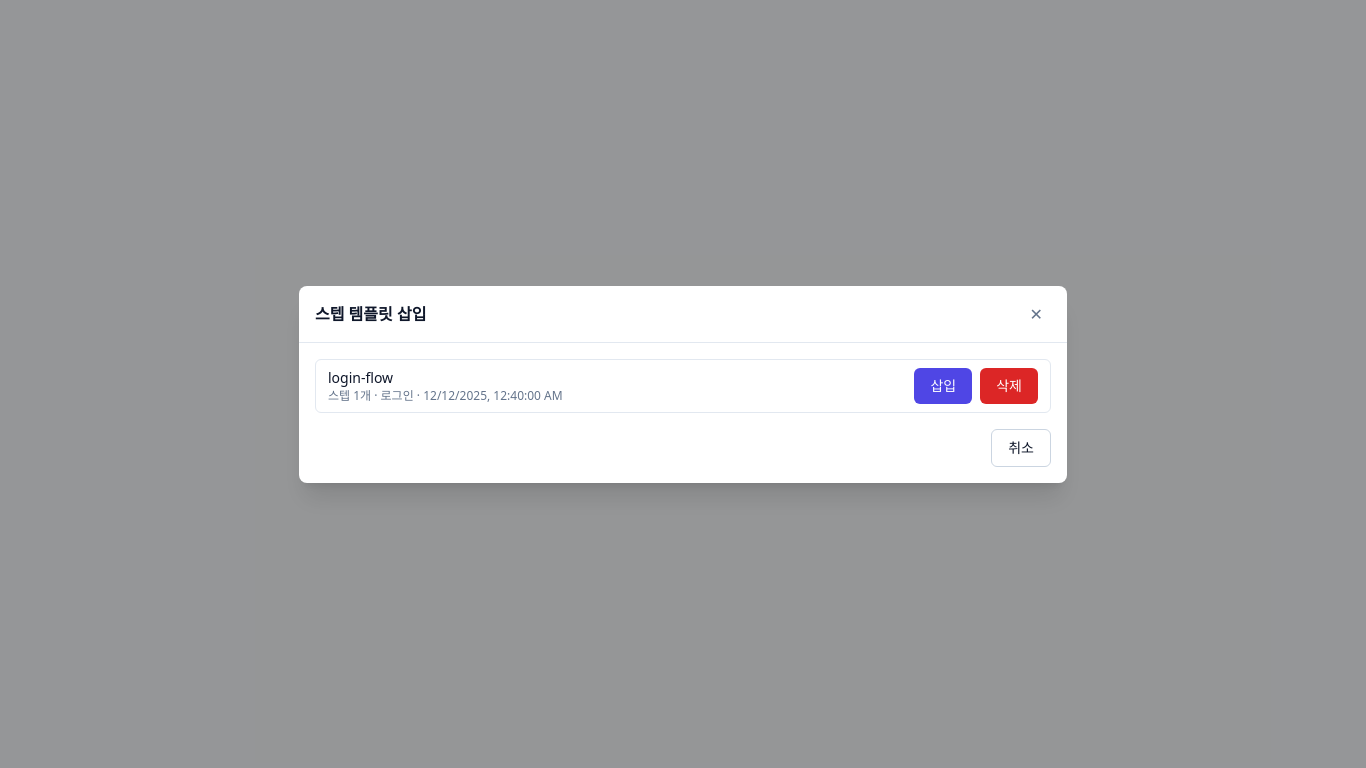
InsertTemplateModal › opens the parameterization form when the chosen template has tokens (R9/R14)
This screenshot has width=1366, height=768.
// Click the list-phase 삽입 button
Click the button "삽입" at (943, 386), box left=914, top=368, right=972, bottom=404
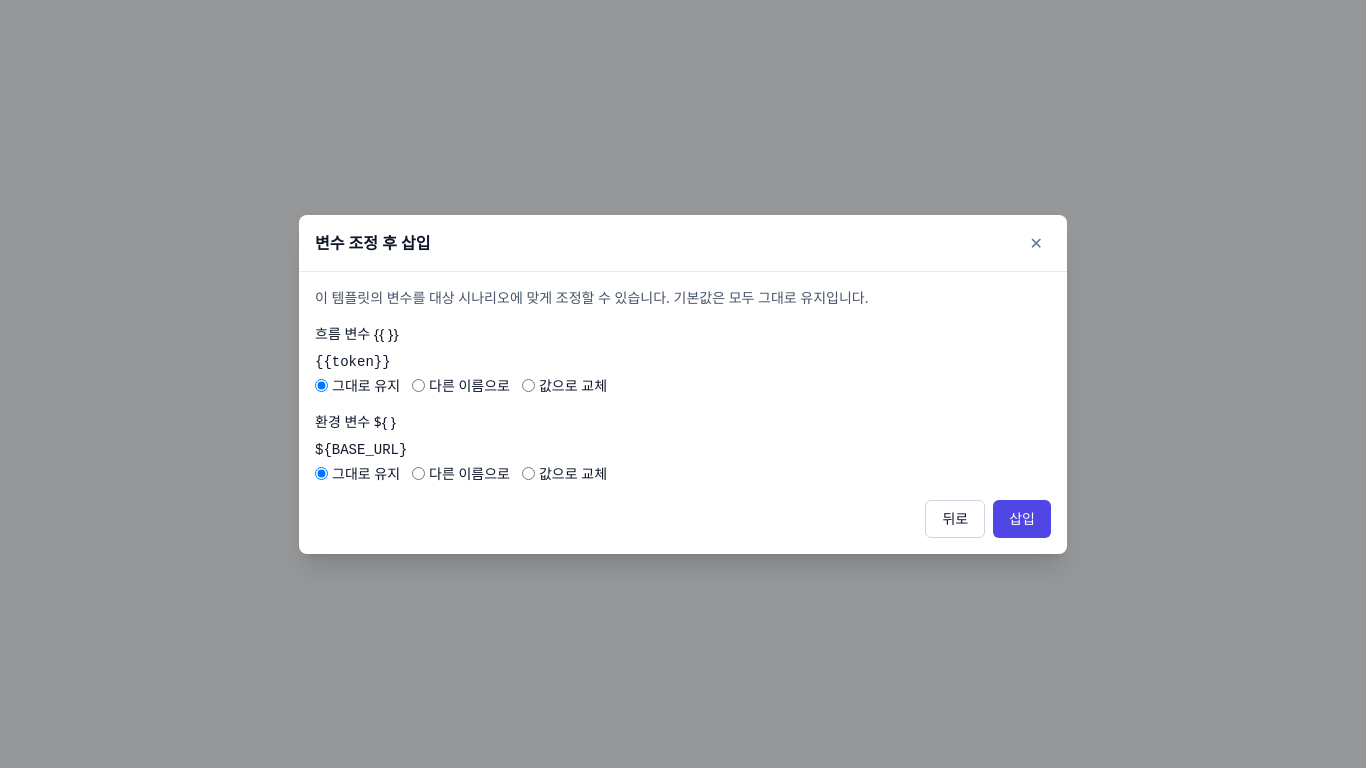
Check: the heading "변수 조정 후 삽입" is shown, box left=315, top=230, right=430, bottom=254
Check: the text "흐름 변수 {{ }}" is shown, box left=315, top=324, right=399, bottom=344
Check: the text "환경 변수 ${ }" is shown, box left=315, top=412, right=396, bottom=432
